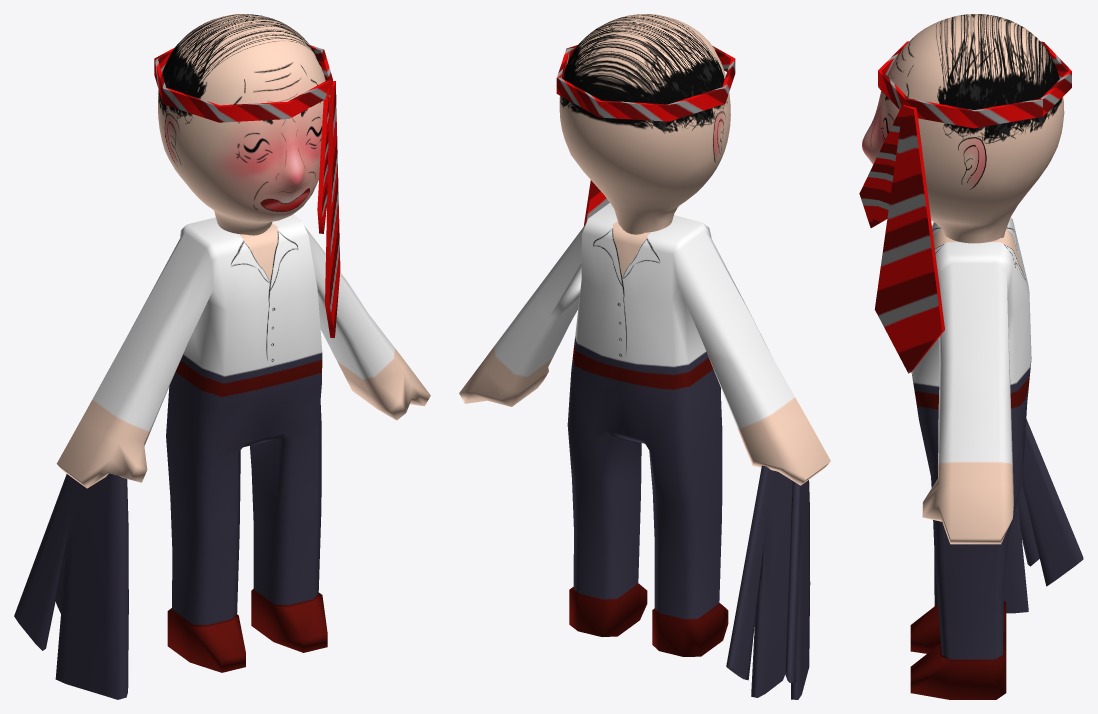
File: Drunkman.fbx
3 renders of one model, left to right at view 1: azimuth 30°, elevation 25°; view 2: azimuth 150°, elevation 25°; view 3: azimuth 270°, elevation 25°, orthographic. The views are drawn at different scales.
Parts seen in each view (by area): view 1: polySurface2; view 2: polySurface2; view 3: polySurface2.
Boxes of the visible parts, left/top/right/bottom form: polySurface2: left=14, top=14, right=430, bottom=699; polySurface2: left=459, top=14, right=830, bottom=699; polySurface2: left=859, top=14, right=1083, bottom=699.
Size of the model in its own units: 7.33 by 12.09 by 3.74.
1 material, 1 textured.
